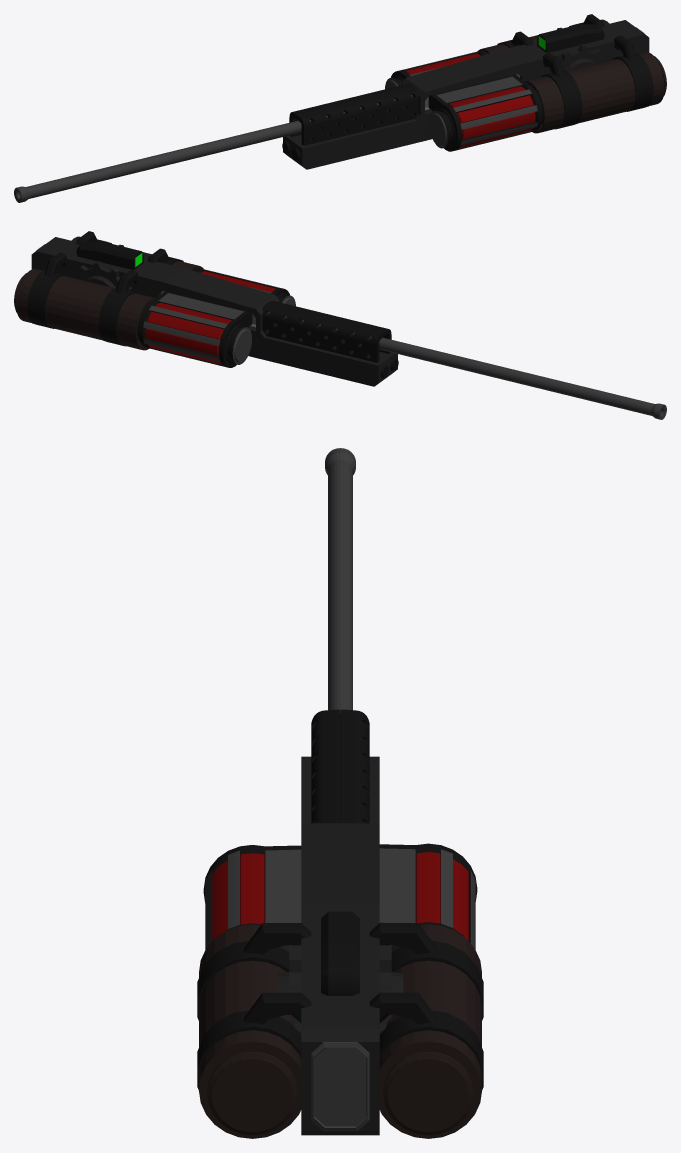
The model's file is 50mmAA1-2.fbx.
3 views of the same model, one above another, from view 1: azimuth 30°, elevation 25°; view 2: azimuth 150°, elevation 25°; view 3: azimuth 270°, elevation 25° (orthographic). The views are drawn at different scales.
Parts seen in each view (by area): view 1: Main, Cone030, Cone028, Barrel, Cone002, jok, Cone031; view 2: Main, Cone031, Cone002, Barrel, Cone028, jok001, Cone030; view 3: Main, Cone030, Cone031, Cone002, Cone028, Barrel, Box006, jok001, jok.
Boxes of the visible parts, <box> form: Main: <box>282,20,649,169</box>; Cone030: <box>524,35,666,133</box>; Cone028: <box>428,74,543,151</box>; Barrel: <box>14,95,412,202</box>; Cone002: <box>385,50,487,89</box>; jok: <box>549,44,603,72</box>; Cone031: <box>477,14,609,53</box>; Main: <box>31,237,398,386</box>; Cone031: <box>14,252,155,350</box>; Cone002: <box>137,291,252,367</box>; Barrel: <box>268,312,666,419</box>; Cone028: <box>194,268,295,306</box>; jok001: <box>77,261,131,289</box>; Cone030: <box>71,231,203,270</box>; Main: <box>301,709,379,1135</box>; Cone030: <box>197,923,311,1138</box>; Cone031: <box>369,923,483,1138</box>; Cone002: <box>379,843,477,949</box>; Cone028: <box>203,845,301,949</box>; Barrel: <box>325,448,355,713</box>; Box006: <box>311,1042,369,1131</box>; jok001: <box>379,945,403,1034</box>; jok: <box>277,945,301,1034</box>.
Size of the model in its own units: 1473 by 162 by 293.
